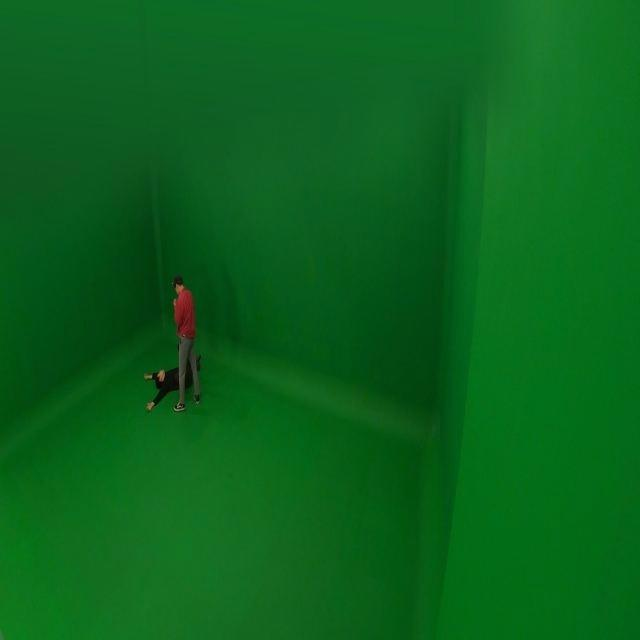fight: (145, 273, 205, 412)
